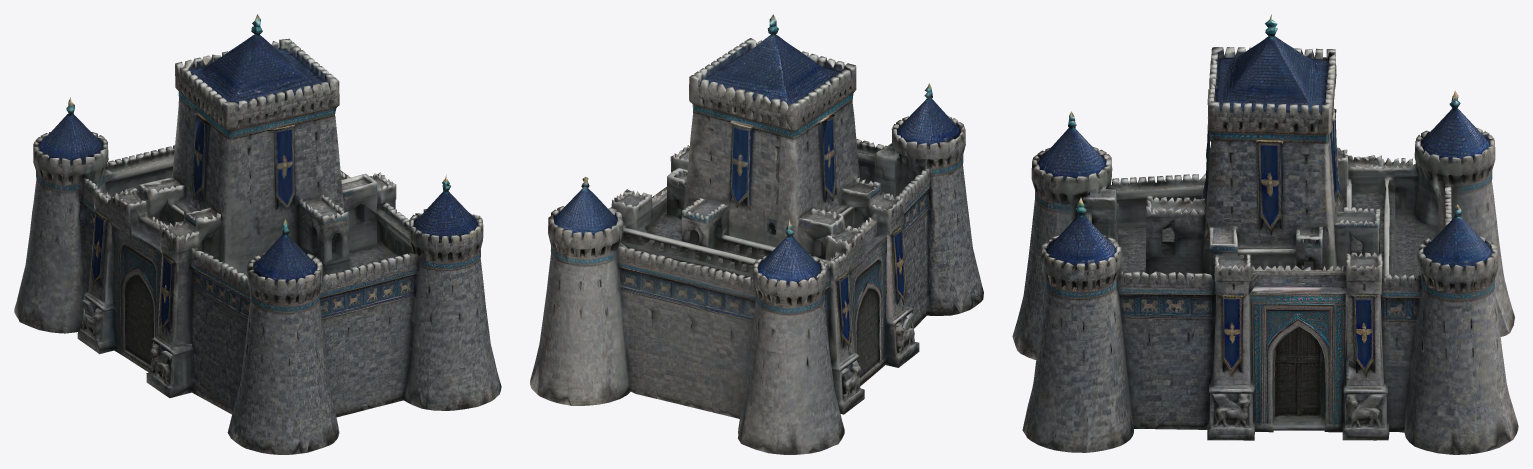
The model's file is castle_keep_stone_1.glb.
The picture shows the model from 3 angles, left to right: view 1: azimuth 30°, elevation 25°; view 2: azimuth 150°, elevation 25°; view 3: azimuth 270°, elevation 25°; orthographic projection. The views are drawn at different scales.
Parts seen in each view (by area): view 1: tripo_node_21fad772-f1b3-4c81-ab82-4ffbfc0dd0e2; view 2: tripo_node_21fad772-f1b3-4c81-ab82-4ffbfc0dd0e2; view 3: tripo_node_21fad772-f1b3-4c81-ab82-4ffbfc0dd0e2.
Part boxes in pixels (x1=…): tripo_node_21fad772-f1b3-4c81-ab82-4ffbfc0dd0e2: x1=14, y1=14, x2=501, y2=454; tripo_node_21fad772-f1b3-4c81-ab82-4ffbfc0dd0e2: x1=530, y1=14, x2=983, y2=454; tripo_node_21fad772-f1b3-4c81-ab82-4ffbfc0dd0e2: x1=1012, y1=14, x2=1518, y2=454.
Bounding box in the file's own units: 0.7332 × 0.7723 × 0.98.
Materials: 1 (1 with a texture image).
